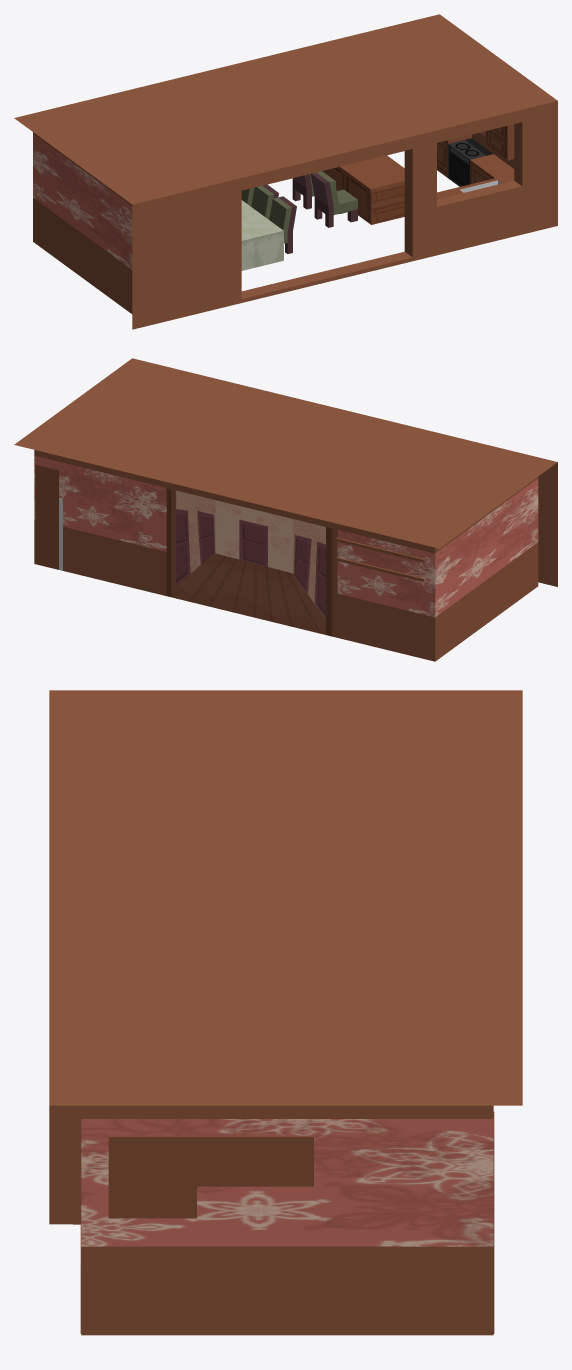
File: Kitchen.fbx
3 renders of one model, top to bottom at view 1: azimuth 30°, elevation 25°; view 2: azimuth 150°, elevation 25°; view 3: azimuth 270°, elevation 25°, orthographic. The views are drawn at different scales.
Visible parts, largest first — view 1: Cube.020, Cube.008, Cube.013, Cube.014, Cube.006; view 2: Cube.020; view 3: Cube.020.
Boxes of the visible parts, x1=… form: Cube.020: x1=14, y1=14, x2=557, y2=329; Cube.008: x1=310, y1=171, x2=357, y2=227; Cube.013: x1=269, y1=196, x2=296, y2=253; Cube.014: x1=251, y1=184, x2=278, y2=219; Cube.006: x1=292, y1=171, x2=335, y2=209; Cube.020: x1=14, y1=358, x2=557, y2=661; Cube.020: x1=49, y1=690, x2=522, y2=1335.
Bounding box in the file's own units: 3595 × 1009 × 1731.
Materials: 9 (9 with a texture image).
